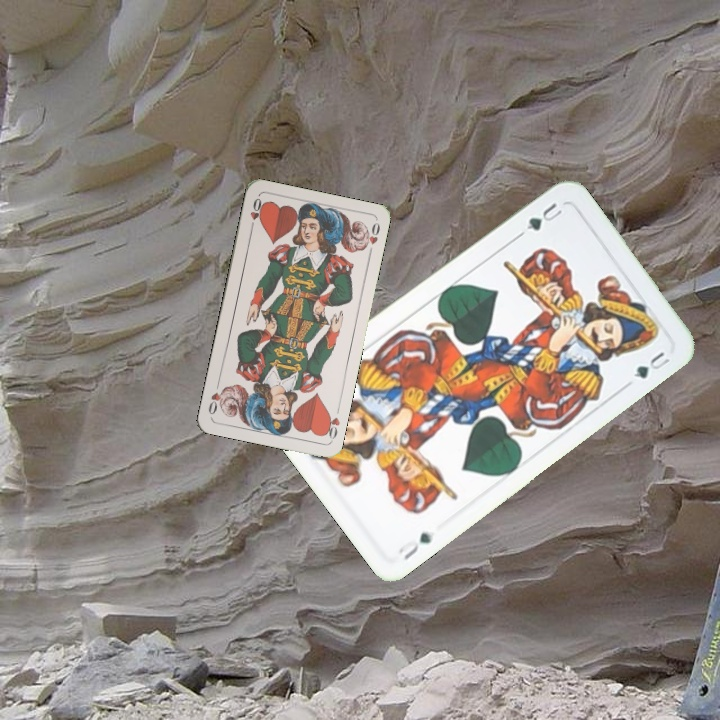GU: (522, 198, 565, 234), (394, 528, 434, 563)
HO: (320, 408, 343, 443), (246, 194, 266, 234)
